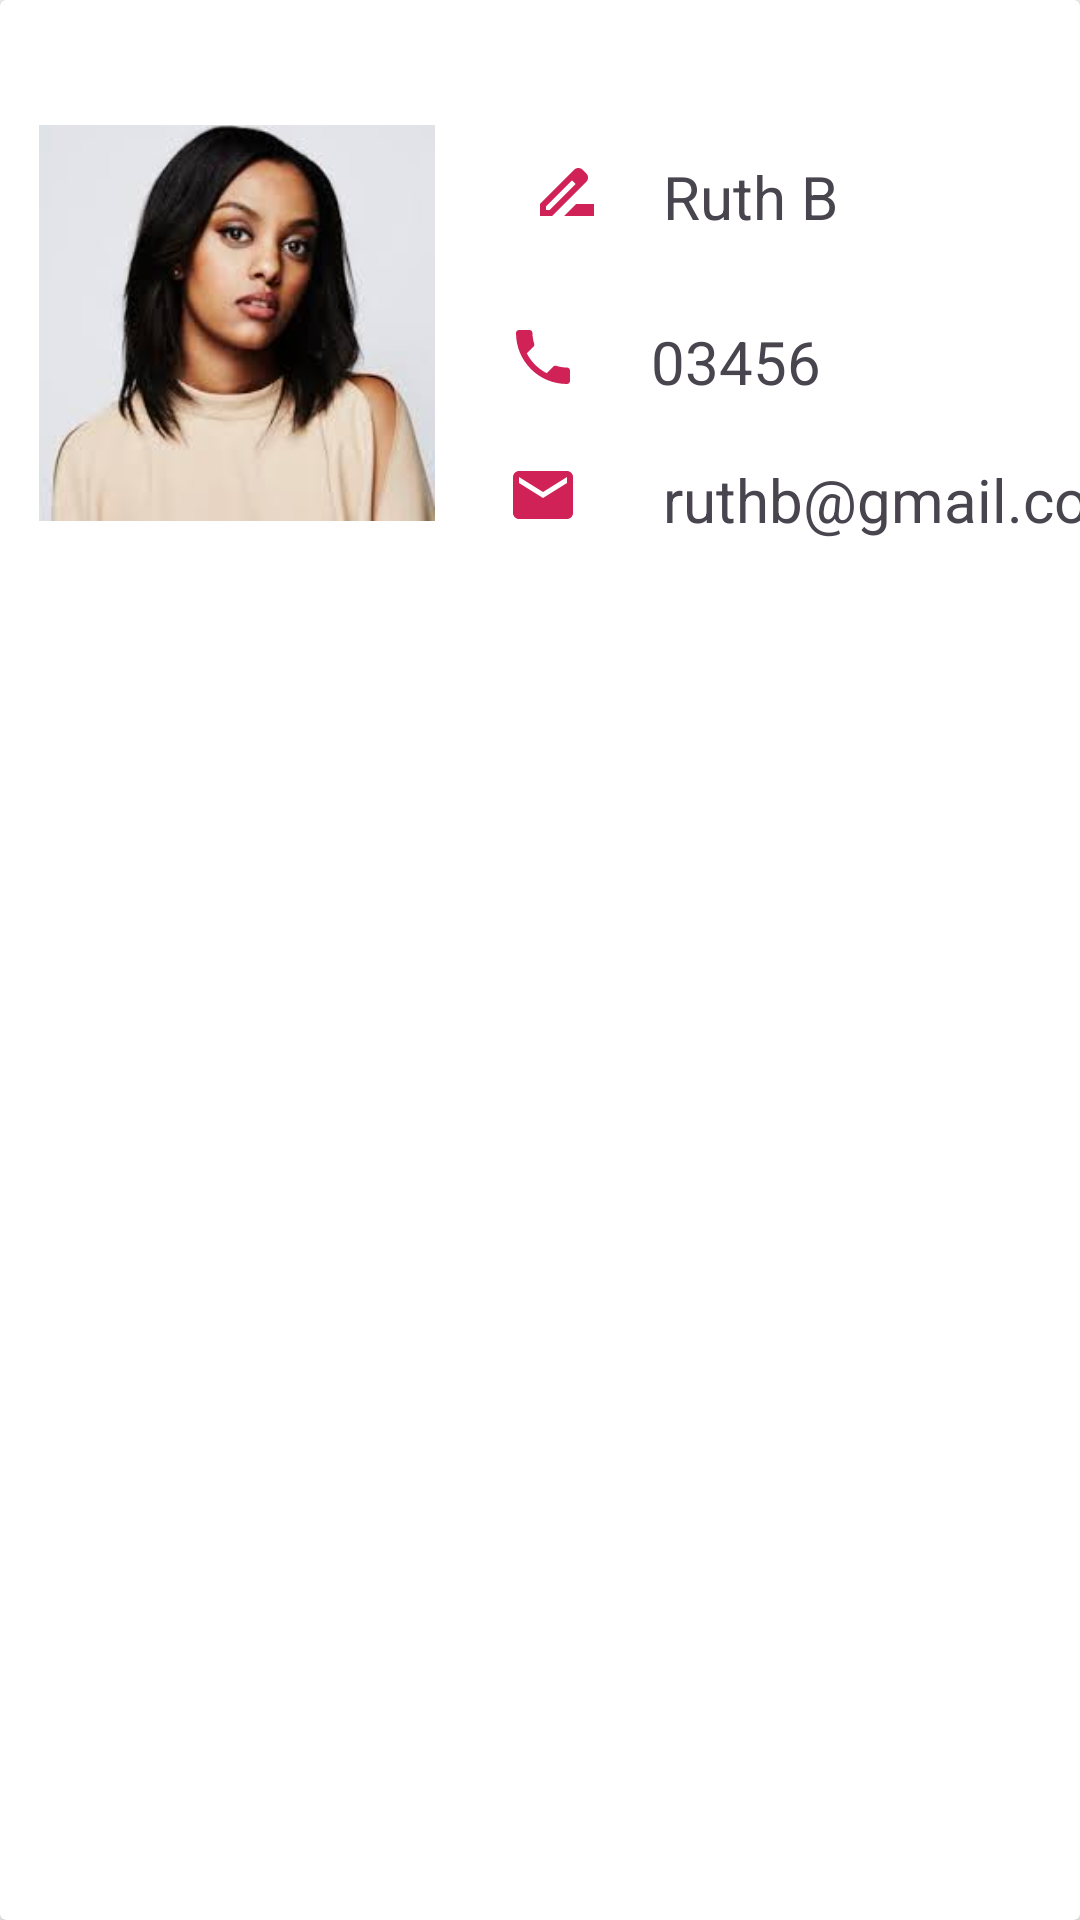

Named icons in this screenshot (1080px x 1920px) and their centers, (x,y):
drive file rename: (567,192)
email: (543,495)
phone: (543,357)
